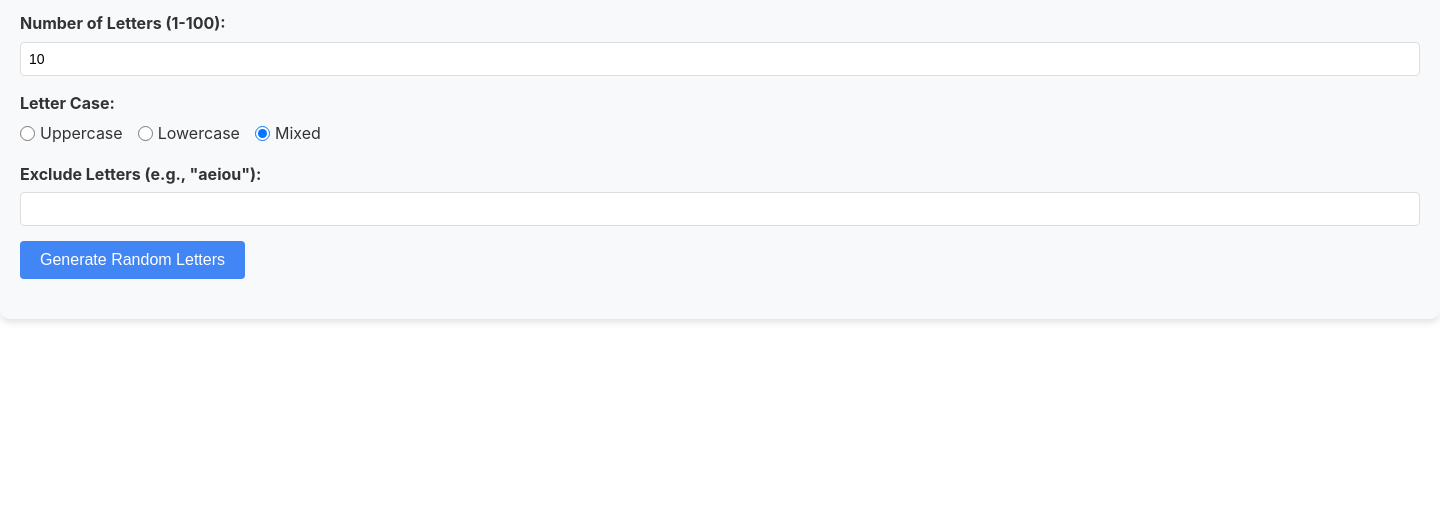
RandomLetterGenerator › handles case selection changes
This screenshot has width=1440, height=522.
# Select uppercase option
Click the radio button labelled "Uppercase" at (28, 134), box top-left (20, 126), bottom-right (35, 142)
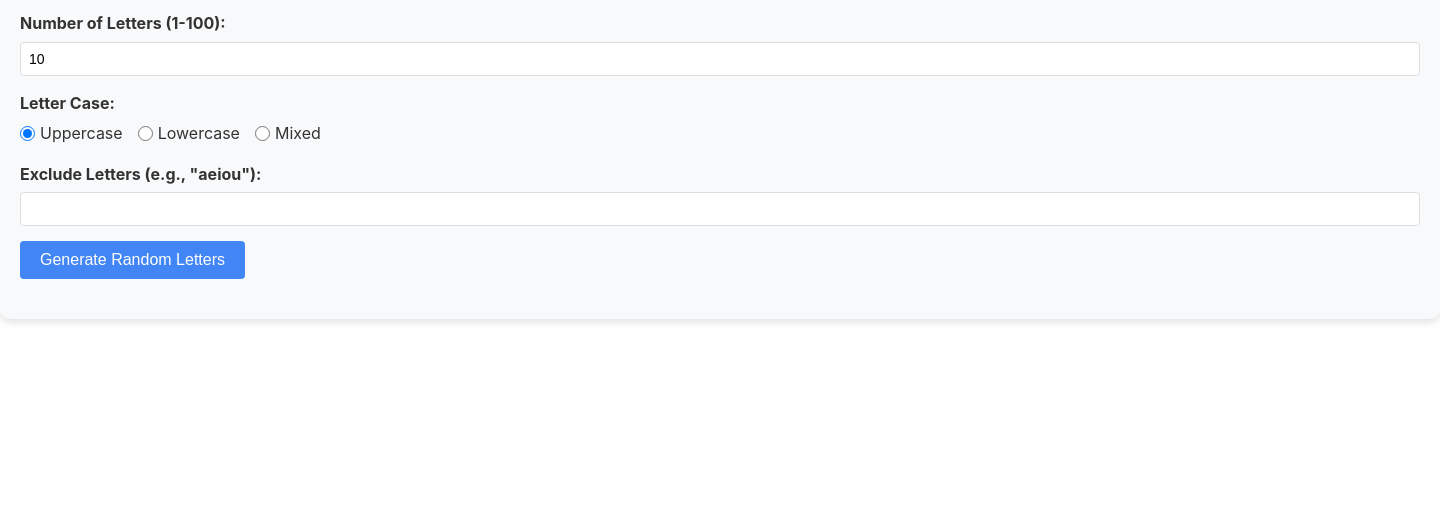
# Generate letters
Click the button "Generate Random Letters" at (132, 260), box top-left (20, 241), bottom-right (245, 279)
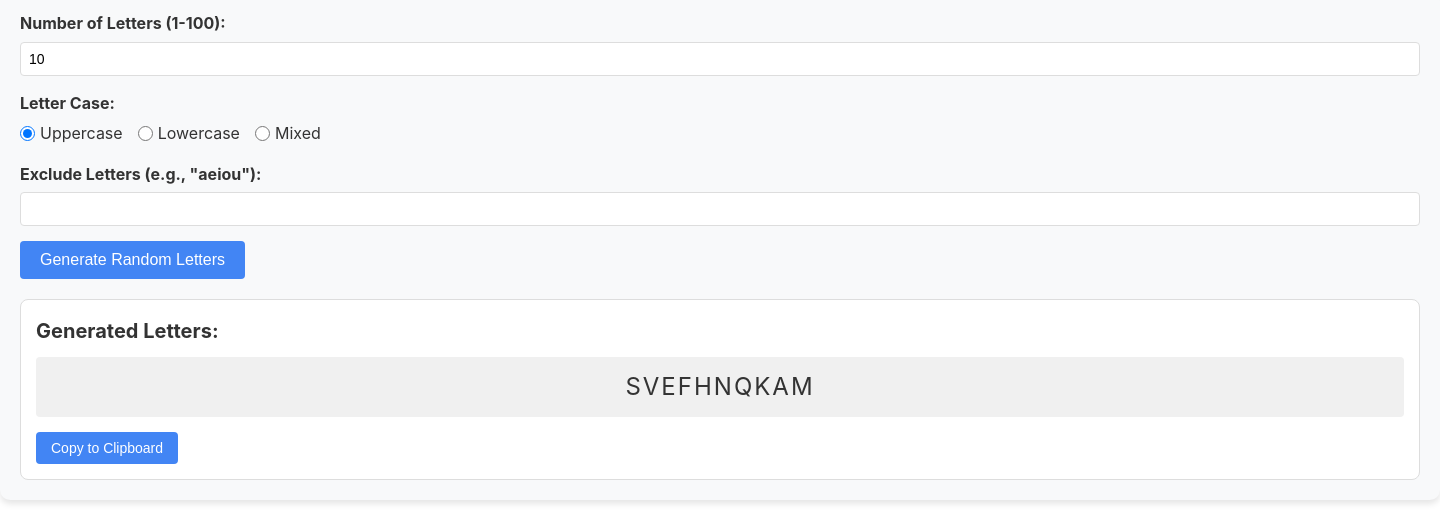
Result: the heading "Generated Letters:" is shown at top-left (36, 319), bottom-right (219, 343)
